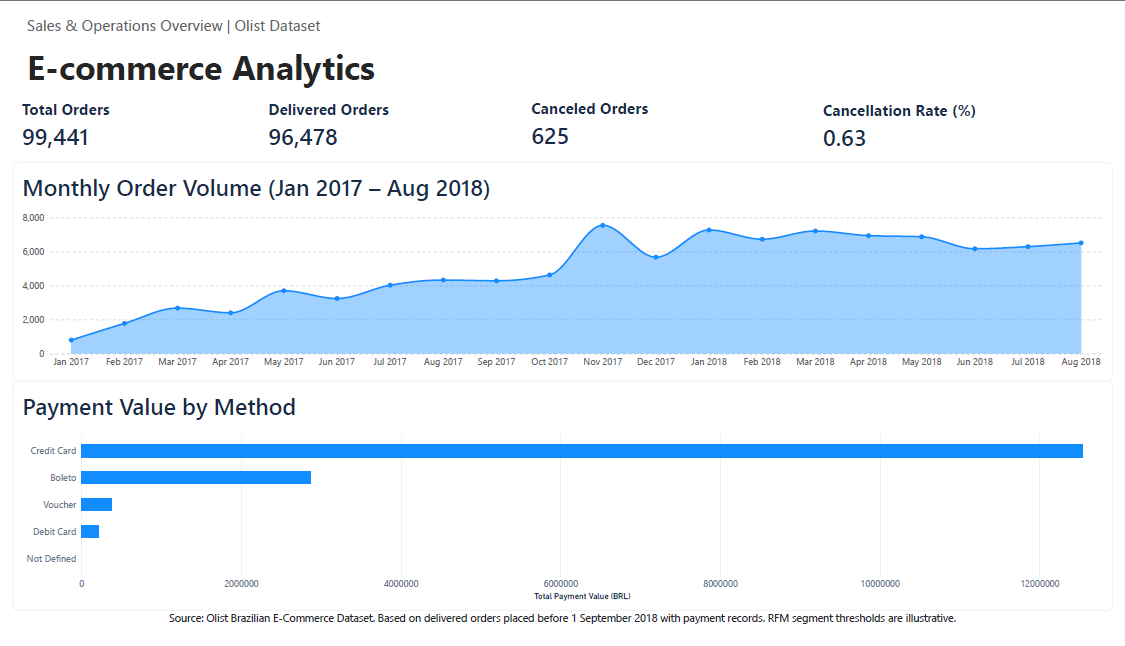

Layout of this report page (visuals, bound fields, positions):
{"tool":"powerbi","page":{"name":"Sales Overview","canvas":[1920,1080],"ordinal":0},"visuals":[{"type":"cardVisual","fields":{"Data":["Sum(executive_kpis.total_orders)"]},"box":[0,132.5,565,125],"z":0},{"type":"cardVisual","fields":{"Data":["Sum(executive_kpis.delivered_orders)"]},"box":[430,132.9,530,125],"z":1000},{"type":"cardVisual","fields":{"Data":["Sum(executive_kpis.canceled_orders)"]},"box":[888.6,131.4,580,125],"z":2000},{"type":"cardVisual","fields":{"Data":["Sum(executive_kpis.cancellation_rate_pct)"]},"box":[1397.5,132.5,522.5,125],"z":3000},{"type":"lineChart","title":"Monthly Order Volume (Jan 2017 – Aug 2018)","fields":{"Category":["monthly_performance.Month_English"],"Y":["Sum(monthly_performance.total_orders)"]},"box":[0,257.5,1920,382.5],"z":4000},{"type":"clusteredBarChart","title":"Payment Value by Method","fields":{"Category":["payment_methods.Payment Method Display"],"Y":["Sum(payment_methods.total_payment_value)"]},"box":[0,640,1920,400],"z":5000},{"type":"textbox","box":[25,0,812.5,132.5],"z":6000},{"type":"textbox","box":[0,1040.3,1919.3,38.6],"z":7000}]}

Visuals, with their boxes in screenshot pixels (x1, y1, x2, y2), scaled from the page's 1920x1080 canvas onto the 1125x646 screenshot:
cardVisual - Sum(executive_kpis.total_orders): 0, 79, 331, 154
cardVisual - Sum(executive_kpis.delivered_orders): 252, 79, 562, 154
cardVisual - Sum(executive_kpis.canceled_orders): 521, 79, 861, 153
cardVisual - Sum(executive_kpis.cancellation_rate_pct): 819, 79, 1124, 154
"Monthly Order Volume (Jan 2017 – Aug 2018)" lineChart: 0, 154, 1124, 383
"Payment Value by Method" clusteredBarChart: 0, 383, 1124, 622
textbox: 15, 0, 491, 79
textbox: 0, 622, 1124, 645
